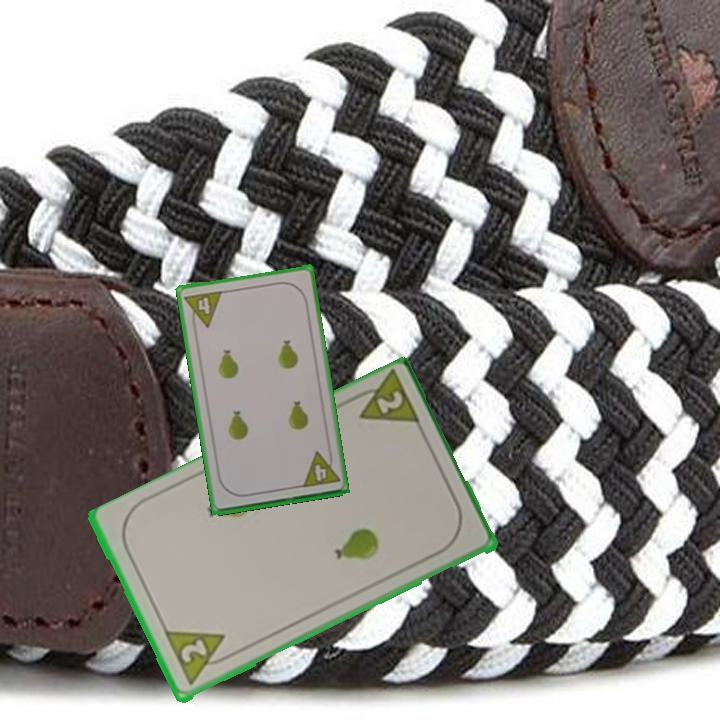2p: (345, 370, 425, 431), (161, 627, 237, 689)
4p: (181, 287, 225, 332), (298, 447, 342, 490)
